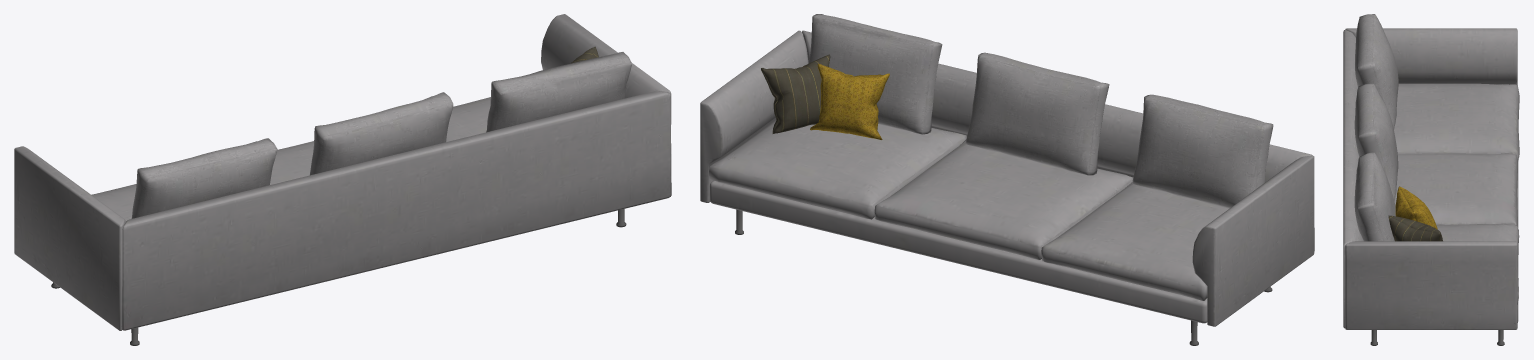
File: sofa.glb
3 views of the same model, side by side, from view 1: azimuth 30°, elevation 25°; view 2: azimuth 150°, elevation 25°; view 3: azimuth 270°, elevation 25° (orthographic). The views are drawn at different scales.
Parts seen in each view (by area): view 1: Back, Sofa_Pillow_low, Sofa-Seat_low; view 2: Sofa-Seat_low, Sofa_Pillow_low, Back, Base, Pillow2_Small_low, Pillow1_Small_low; view 3: Back, Sofa-Seat_low, Sofa_Pillow_low, Pillow1_Small_low, Pillow2_Small_low, Foot.
Boxes of the visible parts, <box> form: Back: <box>14,14,671,330</box>; Sofa_Pillow_low: <box>131,52,631,218</box>; Sofa-Seat_low: <box>91,97,490,220</box>; Sofa-Seat_low: <box>709,119,1228,300</box>; Sofa_Pillow_low: <box>808,14,1273,208</box>; Back: <box>700,30,1314,326</box>; Base: <box>709,180,1207,323</box>; Pillow2_Small_low: <box>810,63,889,139</box>; Pillow1_Small_low: <box>761,54,830,133</box>; Back: <box>1343,28,1517,329</box>; Sofa-Seat_low: <box>1394,83,1519,304</box>; Sofa_Pillow_low: <box>1354,14,1398,241</box>; Pillow1_Small_low: <box>1388,215,1442,241</box>; Pillow2_Small_low: <box>1395,186,1437,229</box>; Foot: <box>1370,330,1504,345</box>.
Bounding box in the file's own units: 2.61 × 0.7957 × 0.8942.
Materials: 7 (6 with a texture image).
